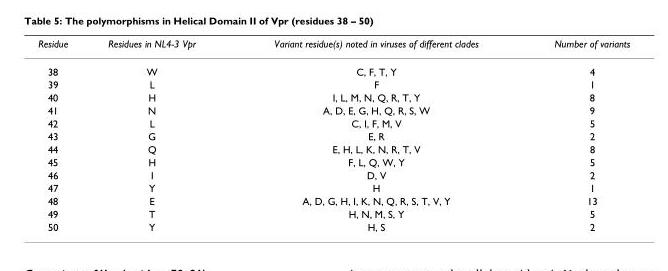table: (37, 37, 629, 232)
table column: (234, 37, 515, 232), (87, 37, 234, 232), (515, 37, 629, 232), (37, 37, 87, 232)
table column header: (37, 37, 629, 57)
table row: (37, 37, 629, 57), (37, 57, 629, 77), (37, 77, 629, 90), (37, 90, 629, 103), (37, 103, 629, 116), (37, 116, 629, 129), (37, 129, 629, 142), (37, 142, 629, 155), (37, 155, 629, 168), (37, 168, 629, 181), (37, 181, 629, 194), (37, 206, 629, 219), (37, 219, 629, 232), (37, 194, 629, 206)
